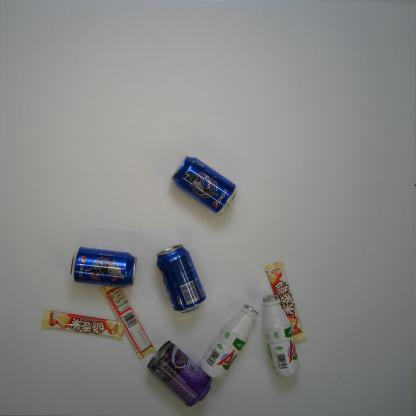Canned Food: (146, 340, 212, 408)
Chocolate: (100, 283, 157, 361), (265, 261, 307, 343), (42, 309, 124, 343)
Drink: (170, 156, 238, 216), (156, 243, 206, 315), (70, 246, 137, 288)
Milk: (199, 303, 258, 381), (263, 294, 300, 378)
